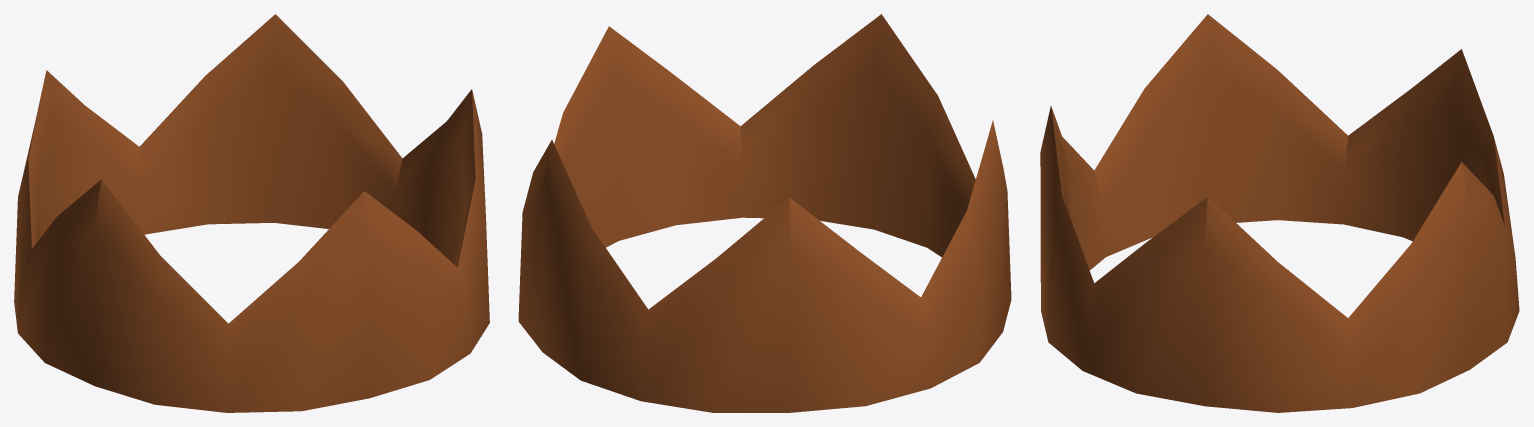
The model's file is crown.3.bronze.gltf.
The picture shows the model from 3 angles, left to right: view 1: azimuth 30°, elevation 25°; view 2: azimuth 150°, elevation 25°; view 3: azimuth 270°, elevation 25°; orthographic projection. The views are drawn at different scales.
Parts seen in each view (by area): view 1: crown3; view 2: crown3; view 3: crown3.
Part boxes in pixels (left/top/right/bottom): crown3: left=14, top=14, right=489, bottom=412; crown3: left=518, top=14, right=1011, bottom=412; crown3: left=1040, top=14, right=1519, bottom=412.
Bounding box in the file's own units: 0.5593 × 0.263 × 0.555.
Materials: 1 (1 with a texture image).
